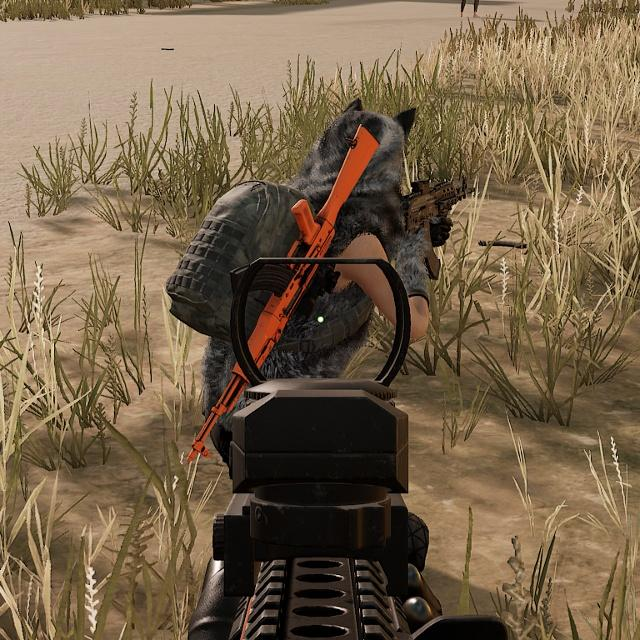head: (304, 95, 422, 210)
people: (190, 90, 447, 495)
